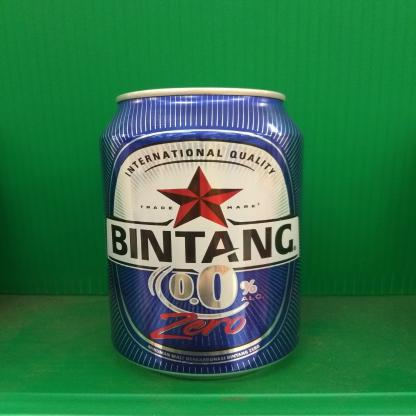bottle: (93, 84, 311, 381)
